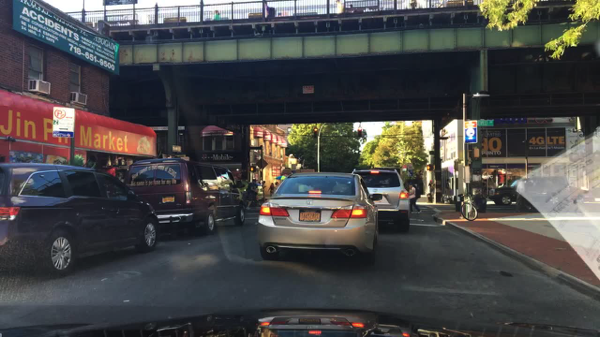bike: (458, 191, 479, 221)
car: (0, 162, 162, 276), (257, 171, 380, 266), (123, 157, 246, 236), (349, 167, 411, 233), (489, 175, 570, 207), (229, 180, 249, 210)
person: (407, 182, 422, 216), (244, 177, 259, 210), (442, 178, 453, 200), (427, 179, 434, 199), (267, 182, 275, 198), (212, 9, 221, 22), (274, 182, 280, 191)
traffic light: (355, 127, 362, 139), (311, 127, 317, 140), (426, 163, 433, 172)
traffic sign: (51, 106, 75, 139), (463, 120, 478, 145), (476, 118, 495, 129), (255, 158, 268, 170), (301, 86, 314, 95), (428, 149, 435, 156)
